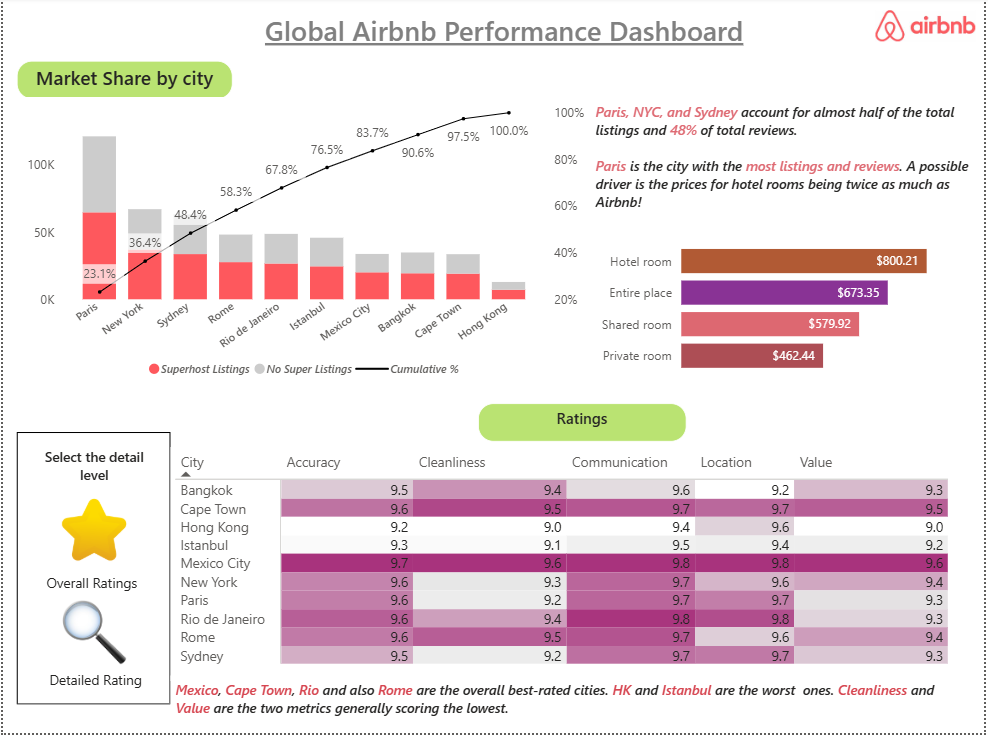

This screenshot's page, from the dashboard's own definition file:
{"tool":"powerbi","page":{"name":"Ratings","canvas":[960,720],"ordinal":1},"visuals":[{"type":"textbox","box":[212.5,10,555,52.5],"z":0},{"type":"image","box":[853.5,9.8,97.8,36.7],"z":1000},{"type":"textbox","box":[13.8,62.5,211.2,37.5],"z":2000},{"type":"textbox","box":[574.6,98.1,385.2,123.5],"z":3000},{"type":"lineStackedColumnComboChart","fields":{"Category":["Listings.city"],"Y":["CountNonNull(Listings.host_is_superhost)","Listings.No Super Listings"],"Y2":["Listings.Cumulative %"]},"box":[18.8,97.5,556.2,283.8],"z":4000},{"type":"barChart","fields":{"Category":["Listings.room_type"],"Y":["Listings.Avg price"]},"box":[575,221.2,385,160],"z":5000},{"type":"textbox","box":[465,397.5,203.8,37.5],"z":7000},{"type":"shape","box":[13.5,425.5,150.4,266.6],"z":8000},{"type":"image","box":[51.3,485.5,75.8,72.1],"z":9000,"group":"g1"},{"type":"textbox","box":[53.8,557.6,73.4,28.1],"z":9000},{"type":"pivotTable","fields":{"Rows":["Listings.city"],"Values":["Listings.Accuracy","Listings.Cleanliness","Listings.Communication","Listings.Location","Listings.Value"]},"box":[163.8,440,771.2,228.8],"z":10000},{"type":"image","box":[51.4,588.2,75.8,66],"z":10000,"group":"g2"},{"type":"textbox","box":[20.8,435.3,137,50.1],"z":11000},{"type":"group","id":"g1","title":"Group 1","box":[18.3,485.5,137,101.5],"z":12000},{"type":"textbox","box":[18.3,558.9,137,28.1],"z":12000,"group":"g1"},{"type":"group","id":"g2","title":"Group 2","box":[25.7,588.2,129.6,95.4],"z":13000},{"type":"textbox","box":[25.7,654.2,129.6,29.3],"z":13000,"group":"g2"},{"type":"textbox","box":[163.8,663.8,771.2,56.2],"z":14000}]}

Visuals, with their boxes in screenshot pixels (x1, y1, x2, y2), scaled from the page's 960x720 canvas onto the 988x735 screenshot:
textbox: [left=219, top=10, right=790, bottom=64]
image: [left=878, top=10, right=979, bottom=47]
textbox: [left=14, top=64, right=232, bottom=102]
textbox: [left=591, top=100, right=987, bottom=226]
lineStackedColumnComboChart - Listings.city x CountNonNull(Listings.host_is_superhost): [left=19, top=100, right=592, bottom=389]
barChart - Listings.room_type x Listings.Avg price: [left=592, top=226, right=987, bottom=389]
textbox: [left=479, top=406, right=688, bottom=444]
shape: [left=14, top=434, right=169, bottom=707]
image: [left=53, top=496, right=131, bottom=569]
textbox: [left=55, top=569, right=131, bottom=598]
pivotTable - Listings.city x Listings.Accuracy: [left=169, top=449, right=962, bottom=683]
image: [left=53, top=600, right=131, bottom=668]
textbox: [left=21, top=444, right=162, bottom=496]
"Group 1" group: [left=19, top=496, right=160, bottom=599]
textbox: [left=19, top=571, right=160, bottom=599]
"Group 2" group: [left=26, top=600, right=160, bottom=698]
textbox: [left=26, top=668, right=160, bottom=698]
textbox: [left=169, top=678, right=962, bottom=734]
